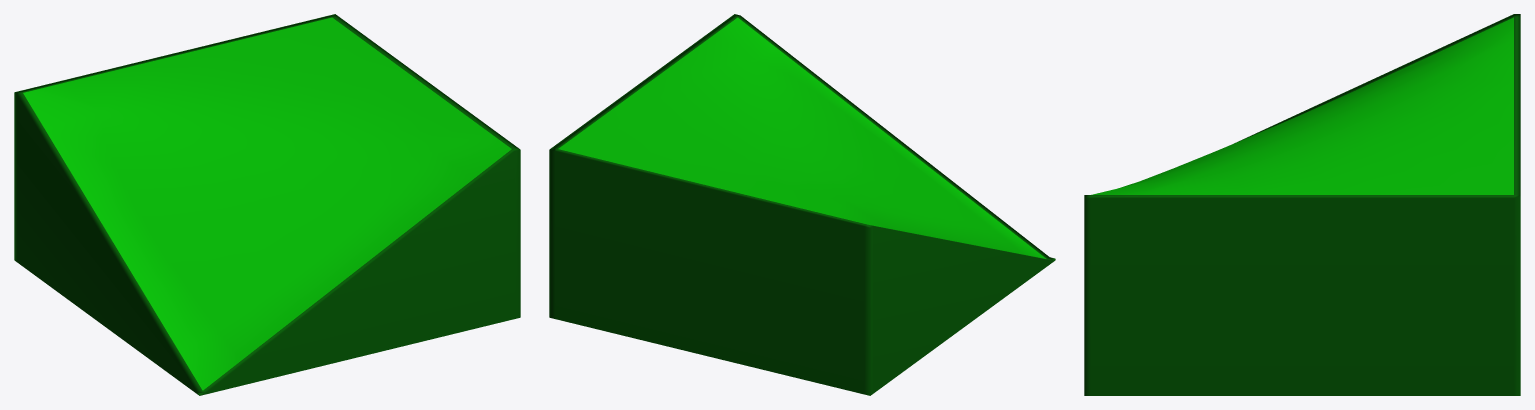
Rendered from Casilla 53.fbx.
3 views of the same model, side by side, from view 1: azimuth 30°, elevation 25°; view 2: azimuth 150°, elevation 25°; view 3: azimuth 270°, elevation 25° (orthographic). The views are drawn at different scales.
Visible parts, largest first — view 1: pCube4; view 2: pCube4; view 3: pCube4.
Part boxes in pixels (left/top/right/bottom): pCube4: left=14, top=14, right=520, bottom=395; pCube4: left=549, top=14, right=1055, bottom=395; pCube4: left=1084, top=14, right=1520, bottom=395.
Bounding box in the file's own units: 200 × 100 × 200.
